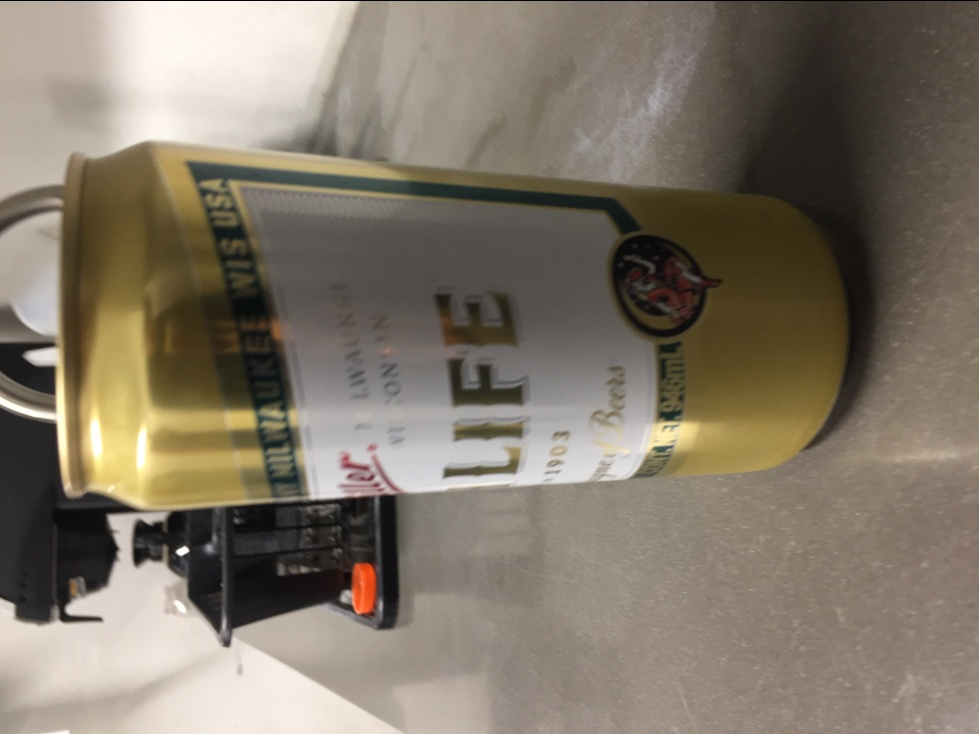miller: (51, 136, 861, 513)
